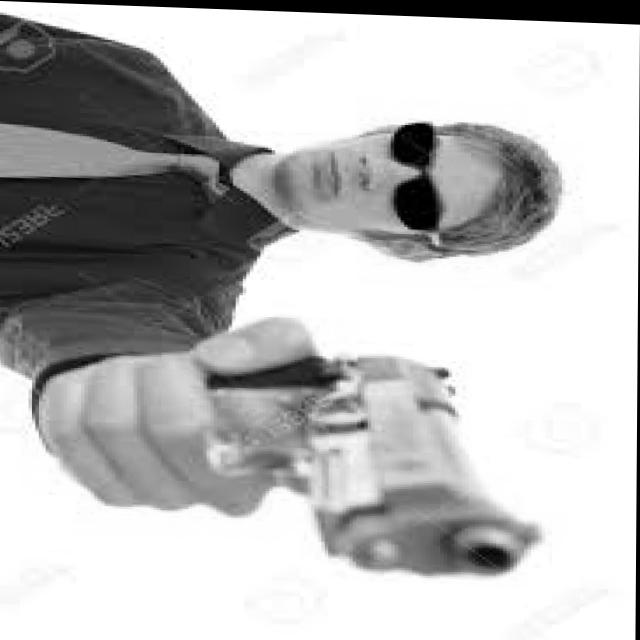handgun: (168, 341, 561, 587)
